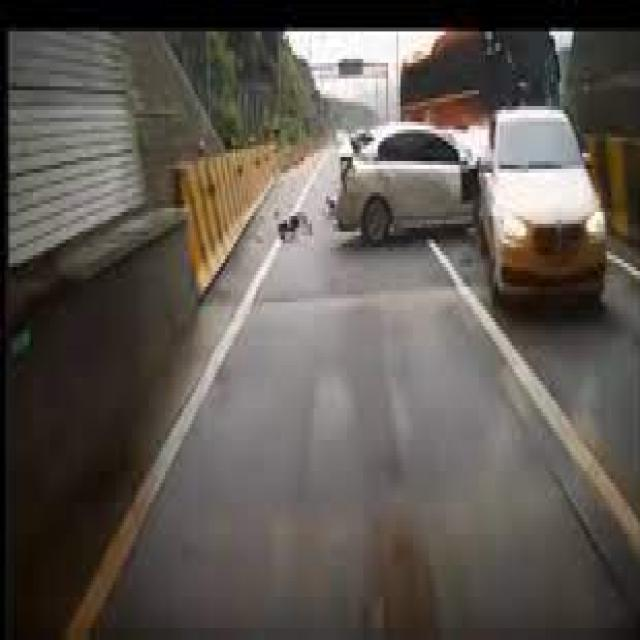accident: (330, 32, 574, 286)
